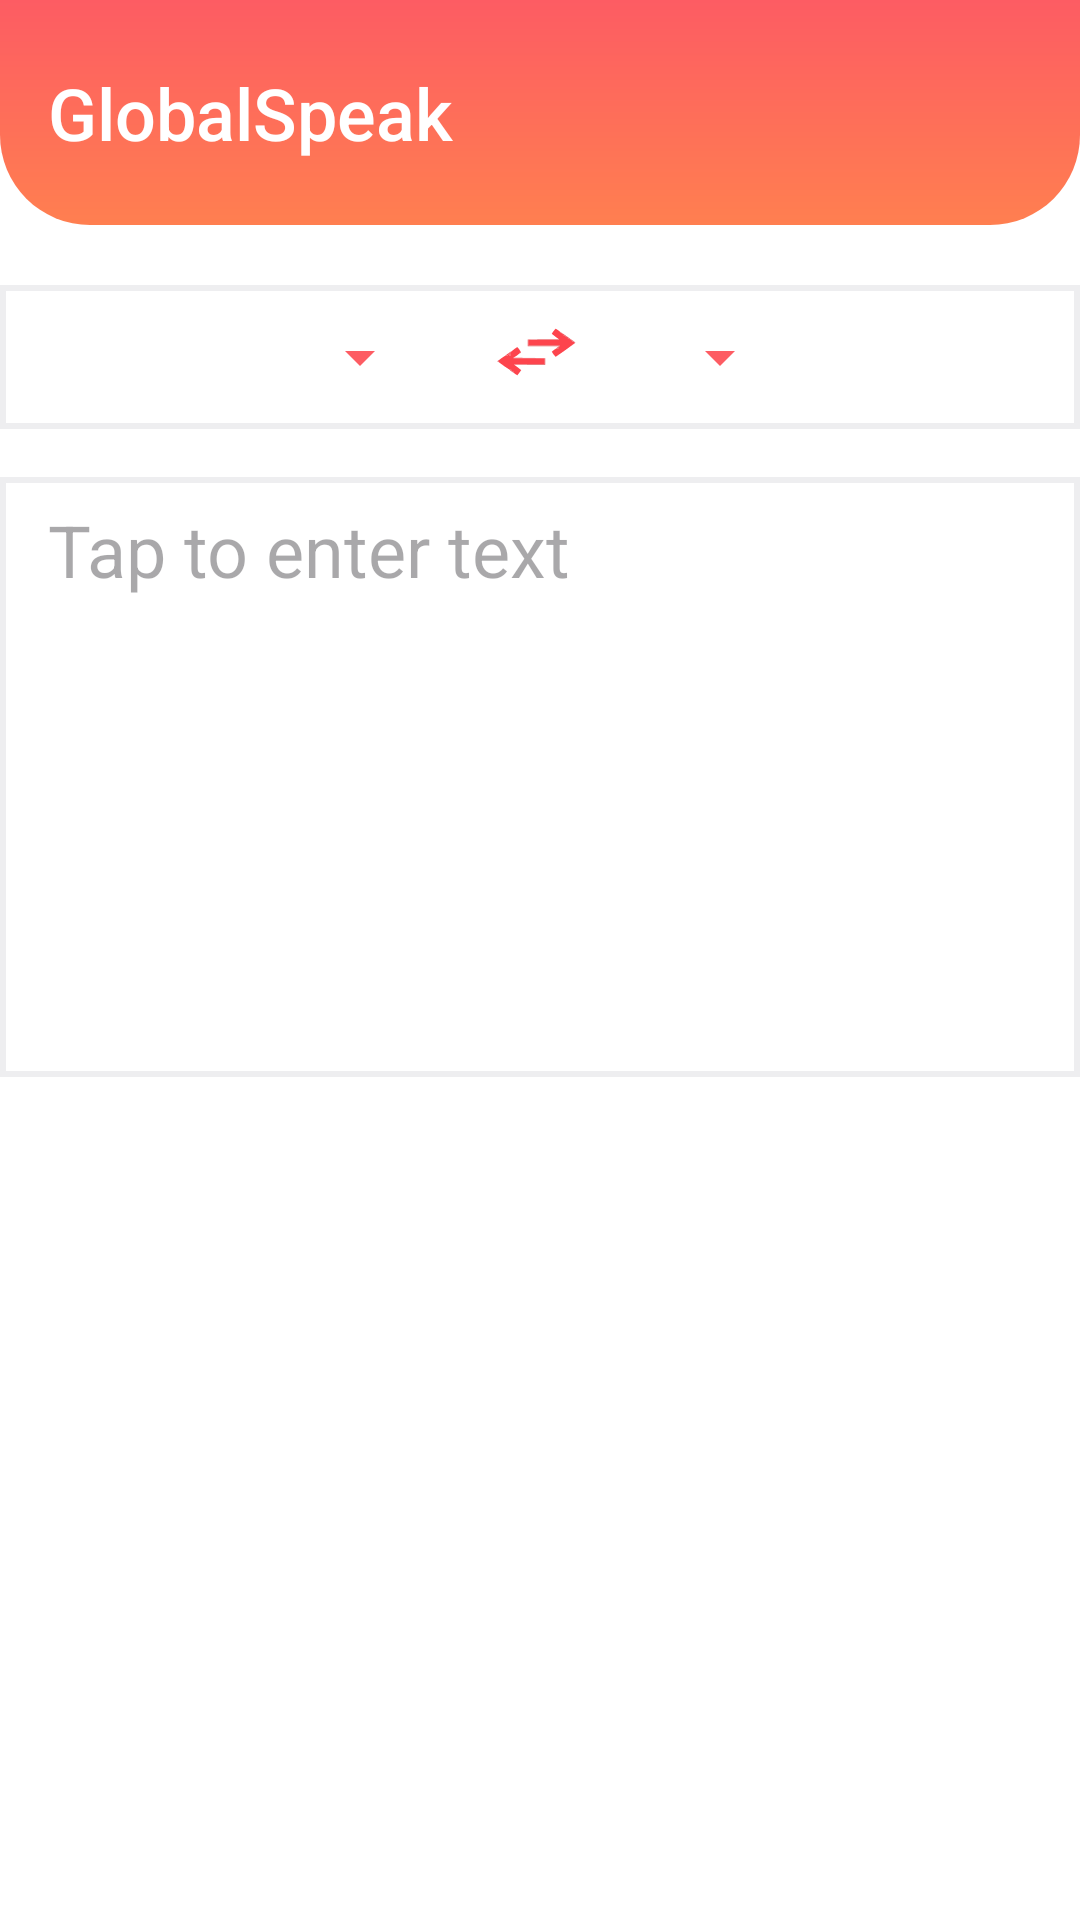

Named icons in this screenshot (1080 x 1920) and their bounding boxes, BBox(x1, y1, x2, y2):
arrow: BBox(497, 329, 575, 375)
